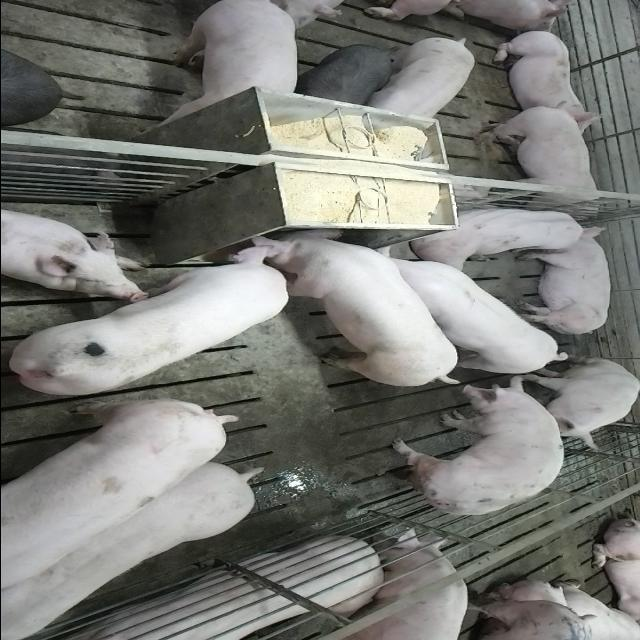Feeding: (6, 237, 292, 401), (248, 229, 466, 393)
Lateral_lying: (32, 539, 386, 640), (513, 226, 612, 337)
Sitting: (519, 358, 640, 452)
Standing: (0, 466, 260, 640), (354, 246, 573, 378), (372, 386, 564, 522), (142, 0, 298, 128), (468, 104, 608, 218), (332, 531, 468, 640), (363, 36, 475, 126), (292, 44, 398, 109)
Sternal_lying: (0, 205, 148, 297), (408, 202, 592, 266), (486, 28, 606, 126)
